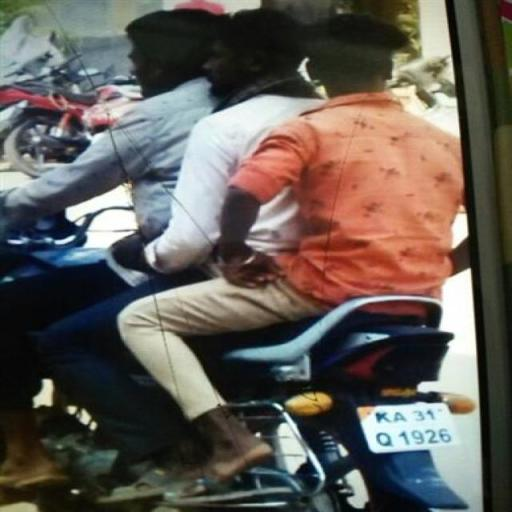tripple riding: (0, 0, 476, 350)
